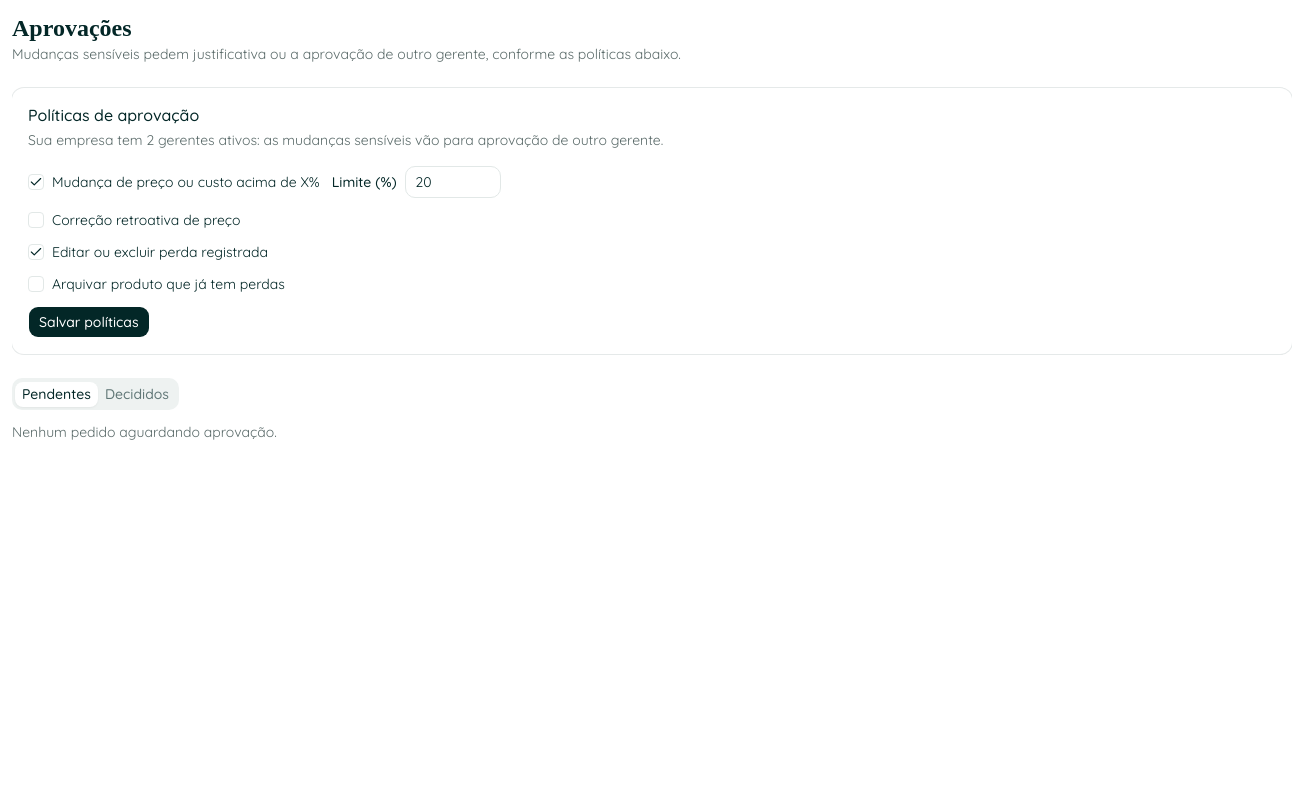
AprovacoesClient › aba Decididos lista o status e a nota
Click the tab "Decididos".
click(137, 394)  # box 98,382 -> 176,406
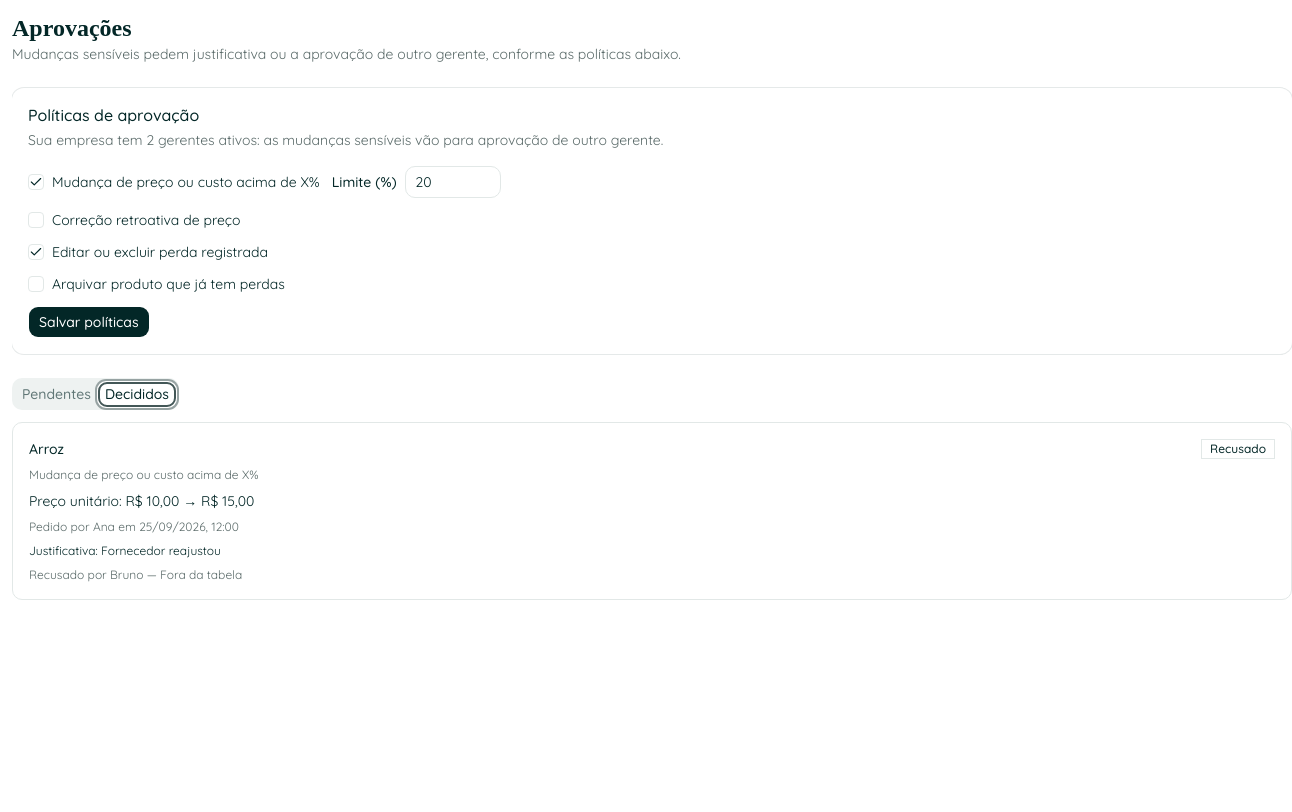
expect the list named "Pedidos" shows "Recusado": met, box 1210,441 -> 1266,456
expect the list named "Pedidos" shows "por Bruno": met, box 84,567 -> 143,582
expect the list named "Pedidos" shows "Fora da tabela": met, box 144,567 -> 242,582
